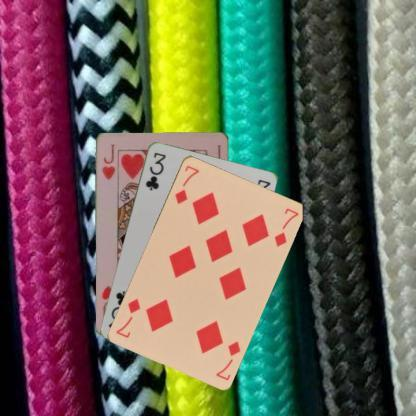3c: (142, 150, 168, 192)
7d: (213, 338, 242, 382), (172, 162, 201, 205)
Jh: (100, 142, 116, 180)
